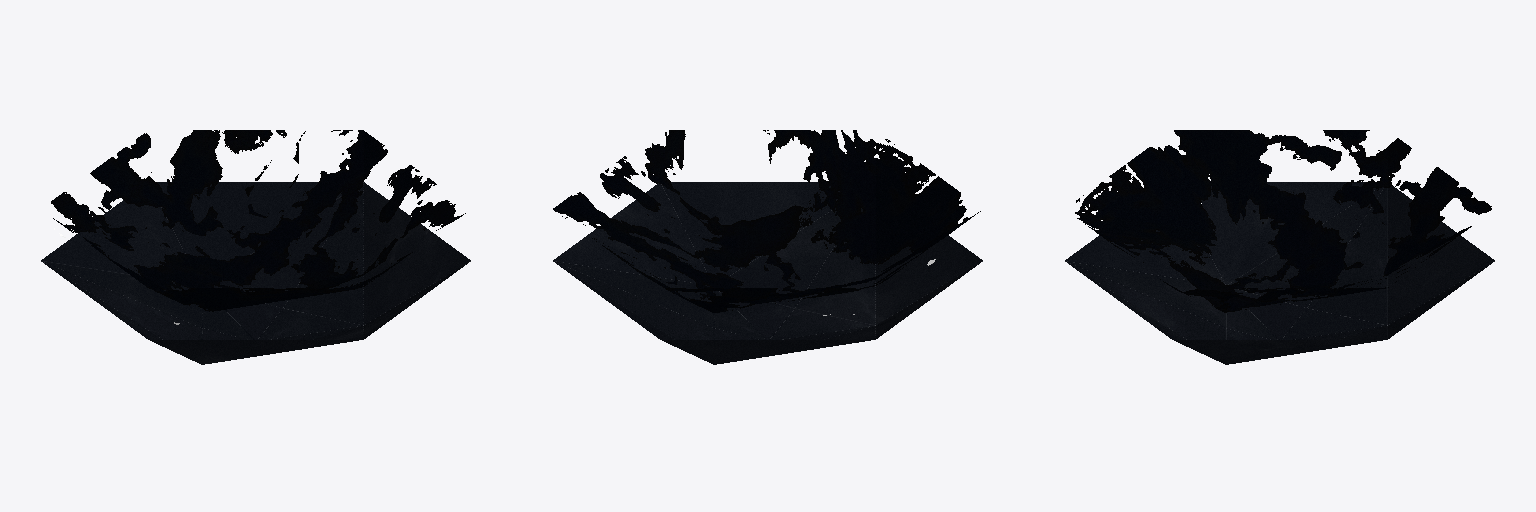
3 views of the same model, side by side, from view 1: azimuth 30°, elevation 25°; view 2: azimuth 150°, elevation 25°; view 3: azimuth 270°, elevation 25° (orthographic).
Visible parts, largest first — view 1: pDisc7, pDisc9; view 2: pDisc7, pDisc9; view 3: pDisc7, pDisc9.
Boxes of the visible parts, box(x1,y1,x2,y2) form: pDisc7: box(41, 182, 470, 364); pDisc9: box(51, 130, 465, 311); pDisc7: box(553, 182, 982, 364); pDisc9: box(553, 130, 980, 312); pDisc7: box(1065, 182, 1494, 364); pDisc9: box(1075, 130, 1491, 312).
Size of the model in its own units: 1.73 by 0.8788 by 2.
Materials: 7 (7 with a texture image).